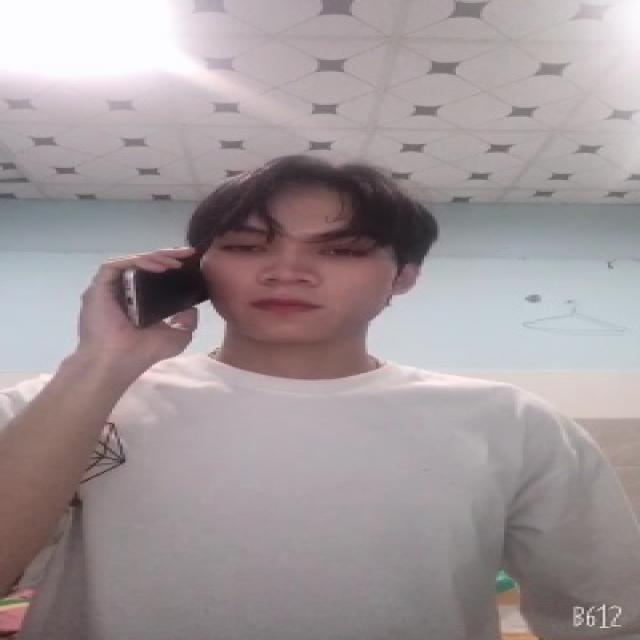Phone: (119, 247, 220, 327)
